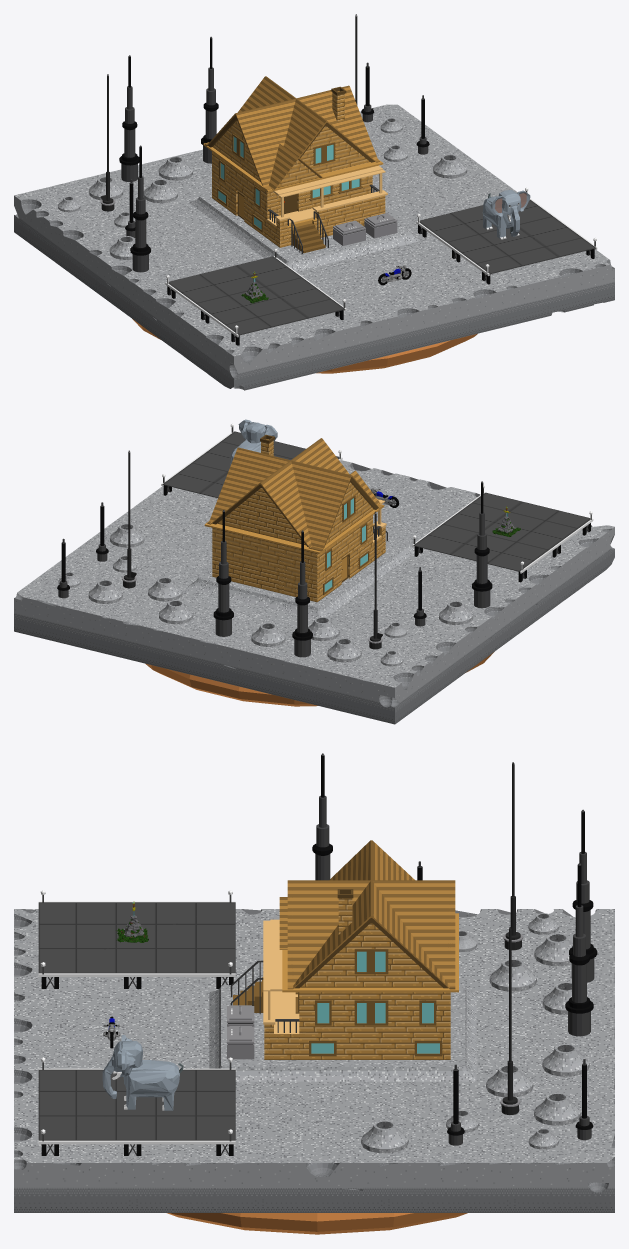
3 views of the same model, one above another, from view 1: azimuth 30°, elevation 25°; view 2: azimuth 150°, elevation 25°; view 3: azimuth 270°, elevation 25° (orthographic). The views are drawn at different scales.
Parts seen in each view (by area): view 1: Cube.027, Cube.508, Cube.025, Cube.026, Cube.028, ANIMAL_ELEFANTE, UNDERGROUND_PIZZA, Cylinder.021, Cylinder.020, Cylinder.017, Cube.030, Cube.029 (+4 smaller); view 2: Cube.027, Cube.508, Cube.025, Cube.028, Cube.026, UNDERGROUND_PIZZA, Cylinder.021, Cylinder.017, Cylinder.020, ANIMAL_ELEFANTE, Cylinder.028, Cylinder.030 (+8 smaller); view 3: Cube.027, Cube.508, Cube.025, Cube.026, Cube.028, UNDERGROUND_PIZZA, ANIMAL_ELEFANTE, Cylinder.017, Cylinder.020, Cylinder.021, Cylinder.033, Cylinder.031 (+9 smaller).
Boxes of the visible parts, <box> form: Cube.027: <box>14,104,614,390</box>; Cube.508: <box>203,76,387,254</box>; Cube.025: <box>165,249,346,345</box>; Cube.026: <box>416,187,597,284</box>; Cube.028: <box>189,193,420,271</box>; ANIMAL_ELEFANTE: <box>482,190,530,239</box>; UNDERGROUND_PIZZA: <box>132,319,477,373</box>; Cylinder.021: <box>130,145,150,272</box>; Cylinder.020: <box>119,55,139,181</box>; Cylinder.017: <box>201,36,218,163</box>; Cube.030: <box>364,213,397,238</box>; Cube.029: <box>333,220,365,245</box>; Cube.027: <box>14,460,614,724</box>; Cube.508: <box>204,434,387,602</box>; Cube.025: <box>412,485,593,582</box>; Cube.028: <box>188,537,414,618</box>; Cube.026: <box>161,423,342,497</box>; UNDERGROUND_PIZZA: <box>145,652,493,706</box>; Cylinder.021: <box>472,481,492,608</box>; Cylinder.017: <box>213,510,233,636</box>; Cylinder.020: <box>292,530,312,657</box>; ANIMAL_ELEFANTE: <box>230,419,277,465</box>; Cylinder.028: <box>327,638,361,662</box>; Cylinder.030: <box>148,577,182,601</box>; Cube.027: <box>14,909,614,1212</box>; Cube.508: <box>230,840,458,1059</box>; Cube.025: <box>38,890,235,988</box>; Cube.026: <box>38,1057,235,1155</box>; Cube.028: <box>209,985,476,1081</box>; UNDERGROUND_PIZZA: <box>167,1213,467,1234</box>; ANIMAL_ELEFANTE: <box>102,1035,183,1110</box>; Cylinder.017: <box>565,863,593,1036</box>; Cylinder.020: <box>569,809,597,982</box>; Cylinder.021: <box>312,753,332,880</box>; Cylinder.033: <box>361,1120,408,1153</box>; Cylinder.031: <box>534,1092,581,1125</box>.
Bounding box in the file's own units: 4000 × 2011 × 4000.
42 materials, 5 textured.
